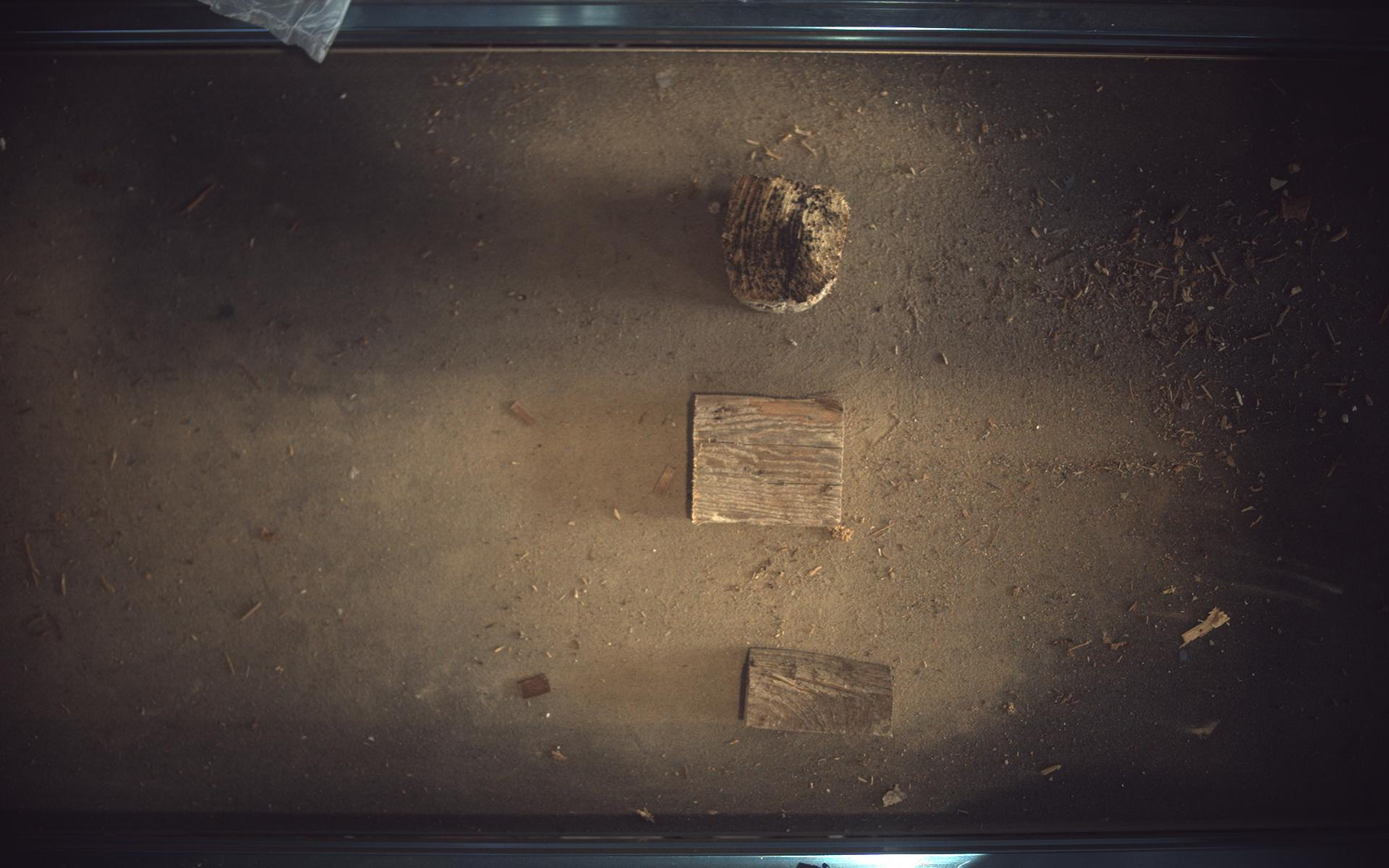wood: (692, 393, 846, 527), (723, 175, 850, 312), (743, 648, 894, 738)
